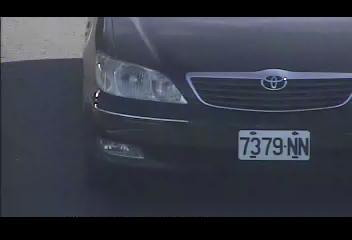plate: (237, 127, 312, 162)
